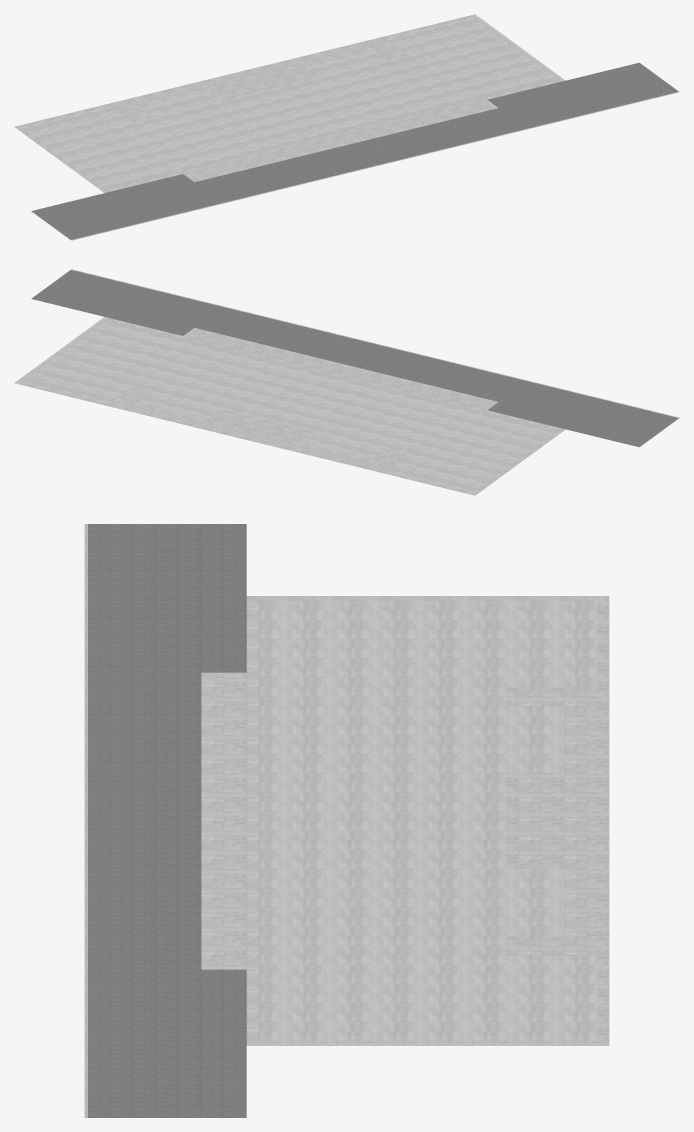
The picture shows the model from 3 angles, top to bottom: view 1: azimuth 30°, elevation 25°; view 2: azimuth 150°, elevation 25°; view 3: azimuth 270°, elevation 25°; orthographic projection. The views are drawn at different scales.
Visible parts, largest first — view 1: M_F_001_g_94x36; view 2: M_F_001_g_94x36; view 3: M_F_001_g_94x36.
Boxes of the visible parts, x1,y1,x2,y2 form: M_F_001_g_94x36: (14, 14, 679, 240); M_F_001_g_94x36: (14, 269, 679, 495); M_F_001_g_94x36: (84, 524, 609, 1117).
Size of the model in its own units: 124 by 0.01 by 46.3.
